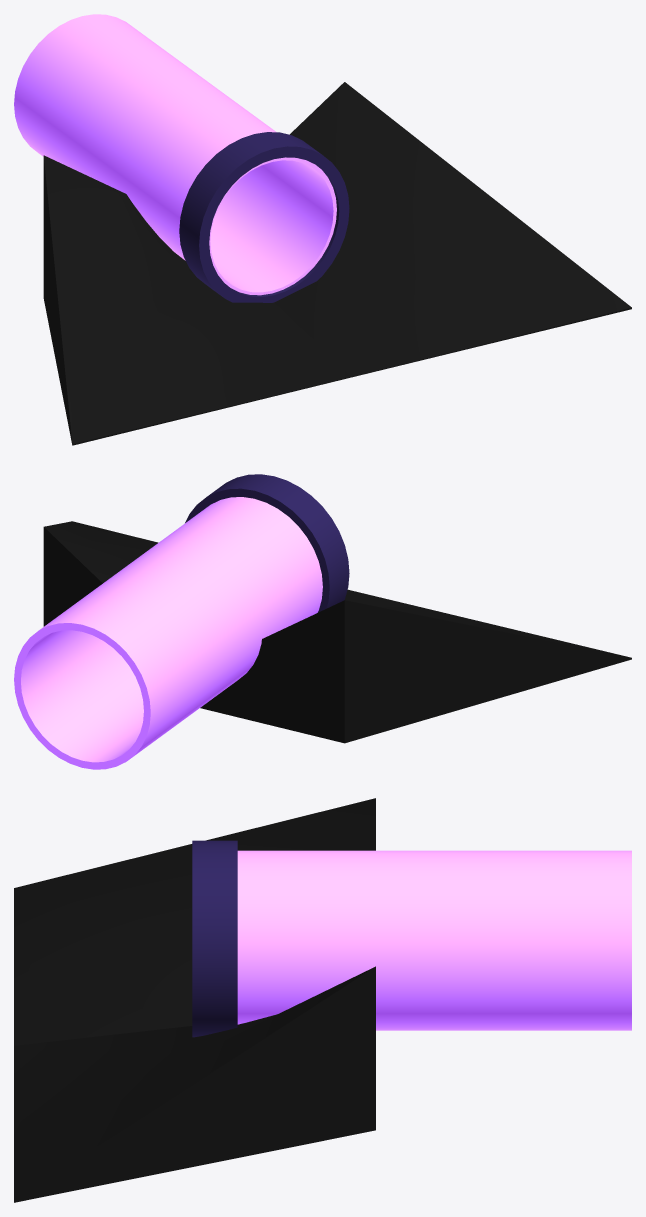
Rendered from Pipe entrance horizontal.fbx.
3 views of the same model, one above another, from view 1: azimuth 30°, elevation 25°; view 2: azimuth 150°, elevation 25°; view 3: azimuth 270°, elevation 25° (orthographic). The views are drawn at different scales.
Parts seen in each view (by area): view 1: Cube_7, Tube_1, Tube_2; view 2: Tube_1, Cube_7, Tube_2; view 3: Cube_7, Tube_1, Tube_2.
Part boxes in pixels (<box>): Cube_7: <box>43,82,631,445</box>; Tube_1: <box>14,14,336,295</box>; Tube_2: <box>179,132,349,302</box>; Tube_1: <box>14,497,322,769</box>; Cube_7: <box>43,521,631,743</box>; Tube_2: <box>185,474,349,612</box>; Cube_7: <box>14,798,375,1202</box>; Tube_1: <box>237,850,631,1030</box>; Tube_2: <box>192,840,237,1037</box>.
Size of the model in its own units: 1636 by 480 by 1366.
